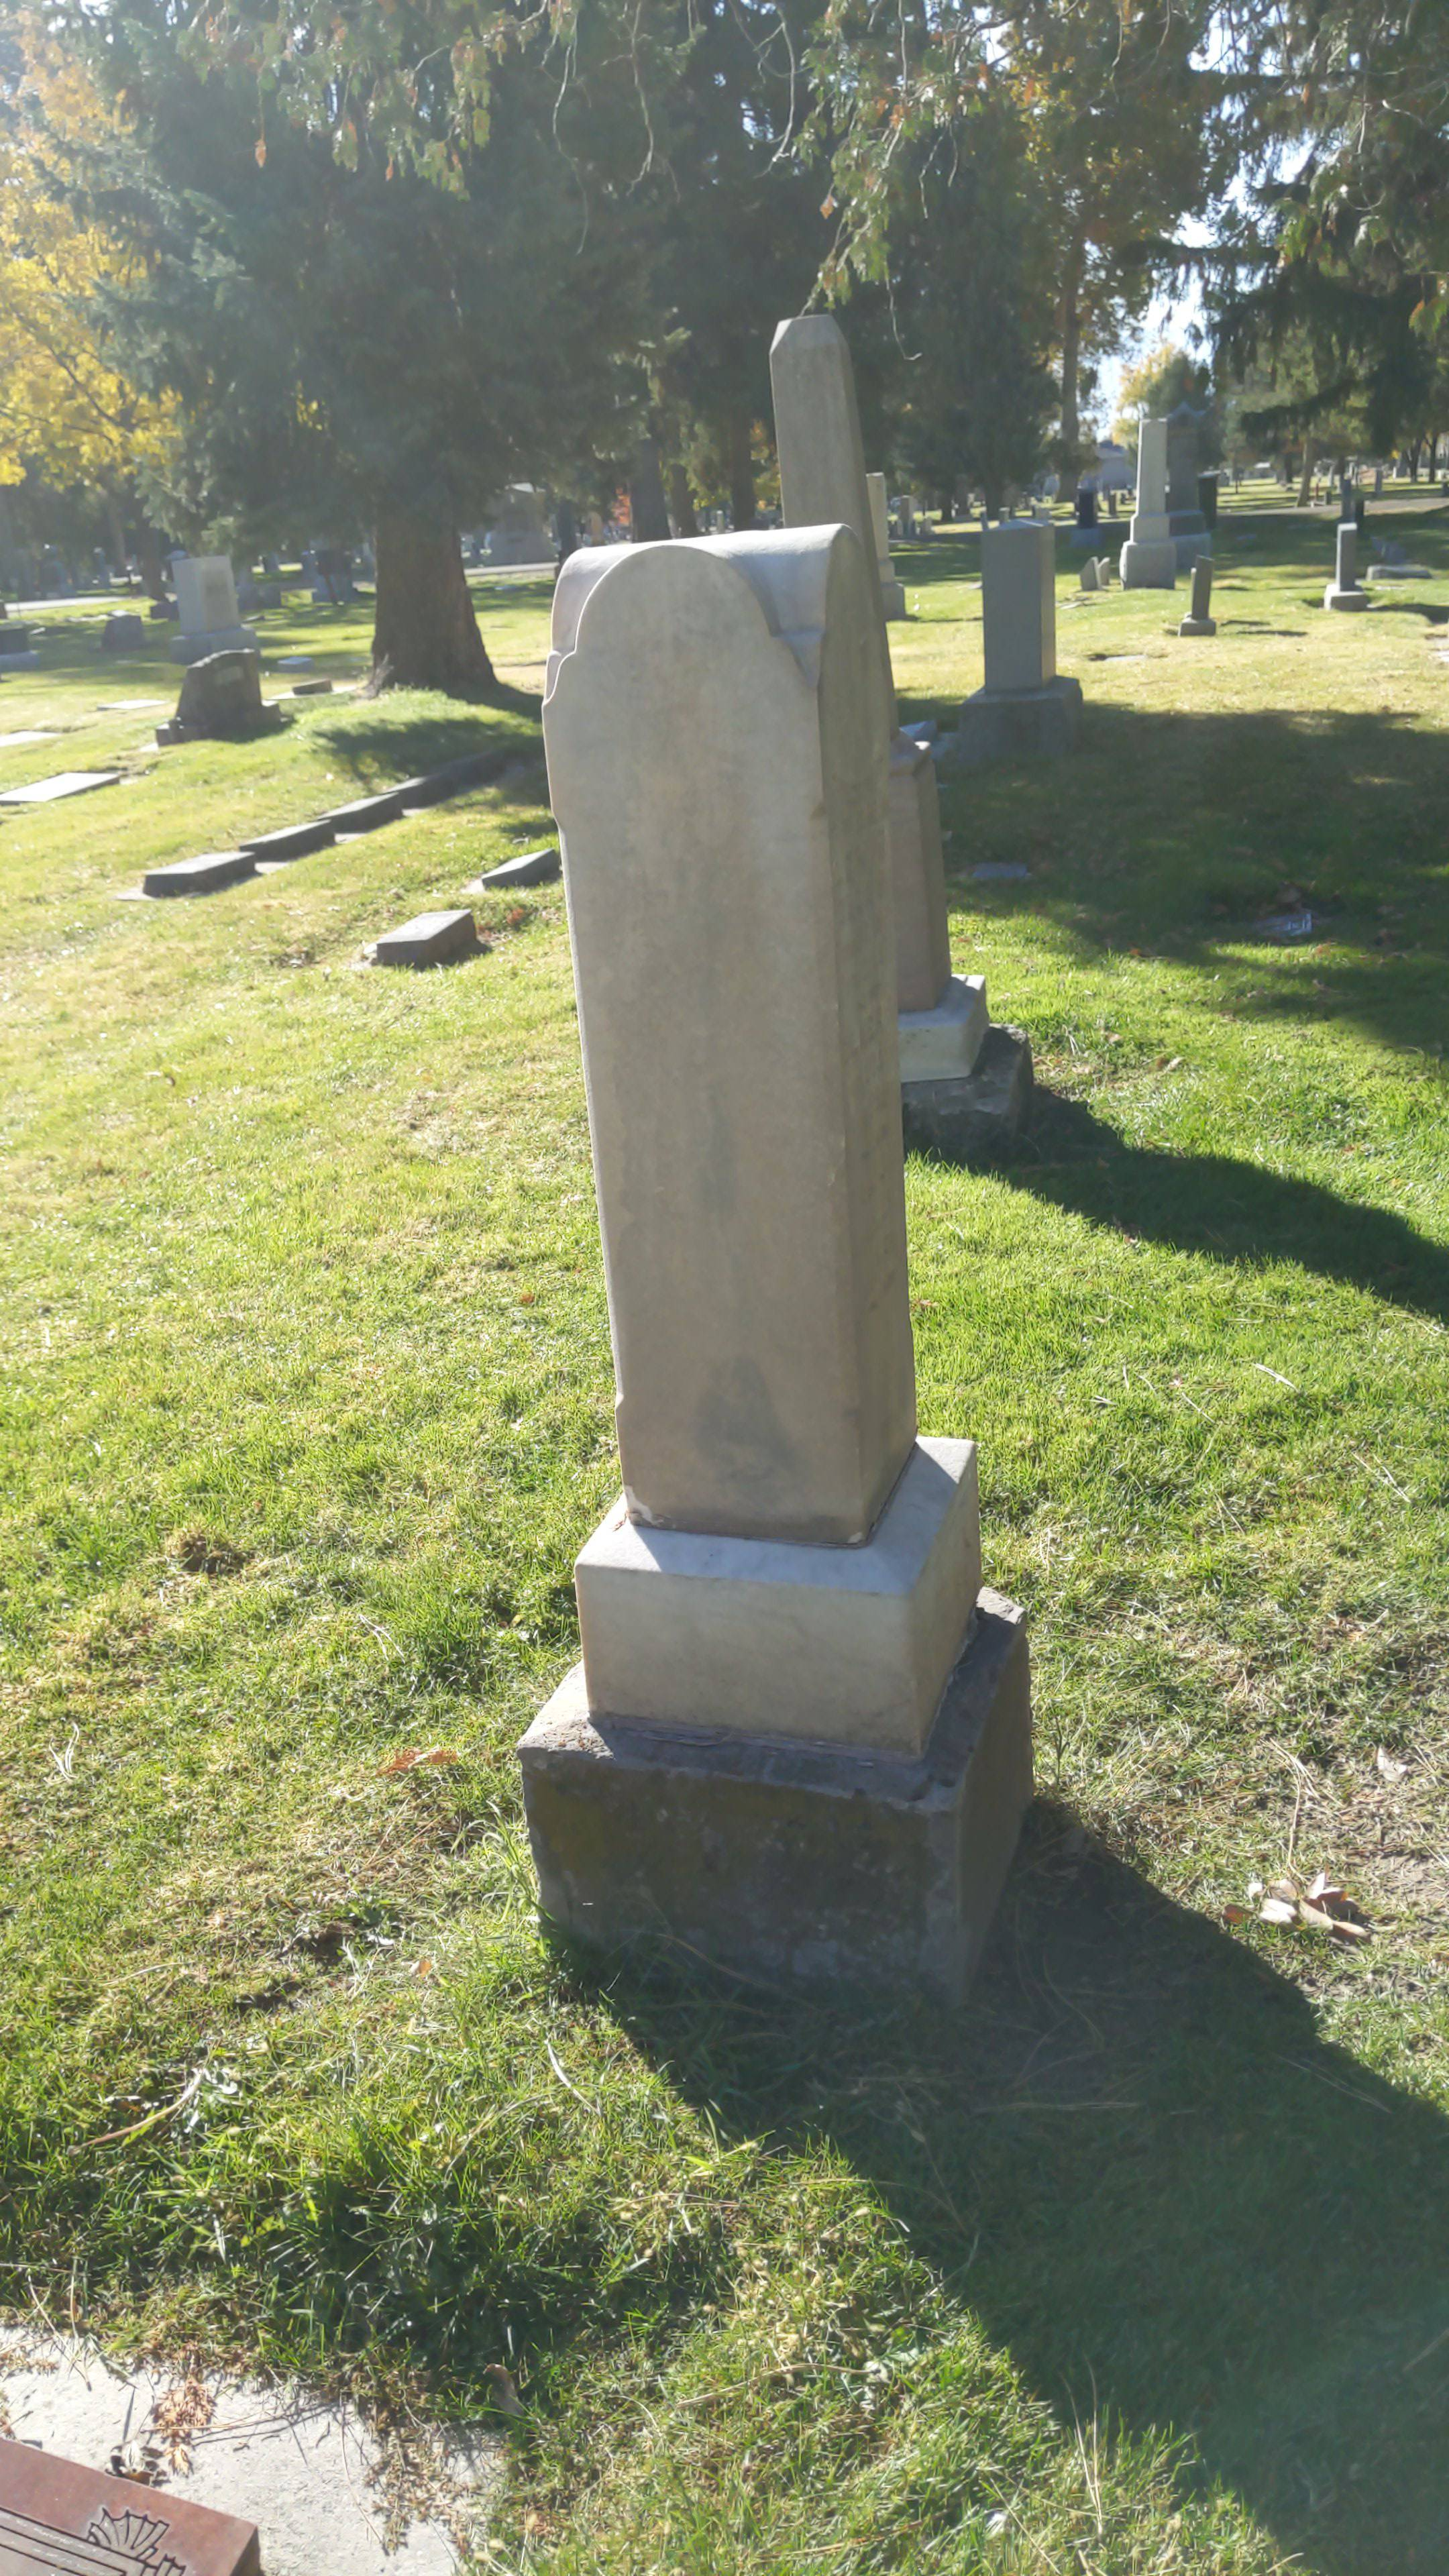obelisk: (536, 533, 984, 1764)
